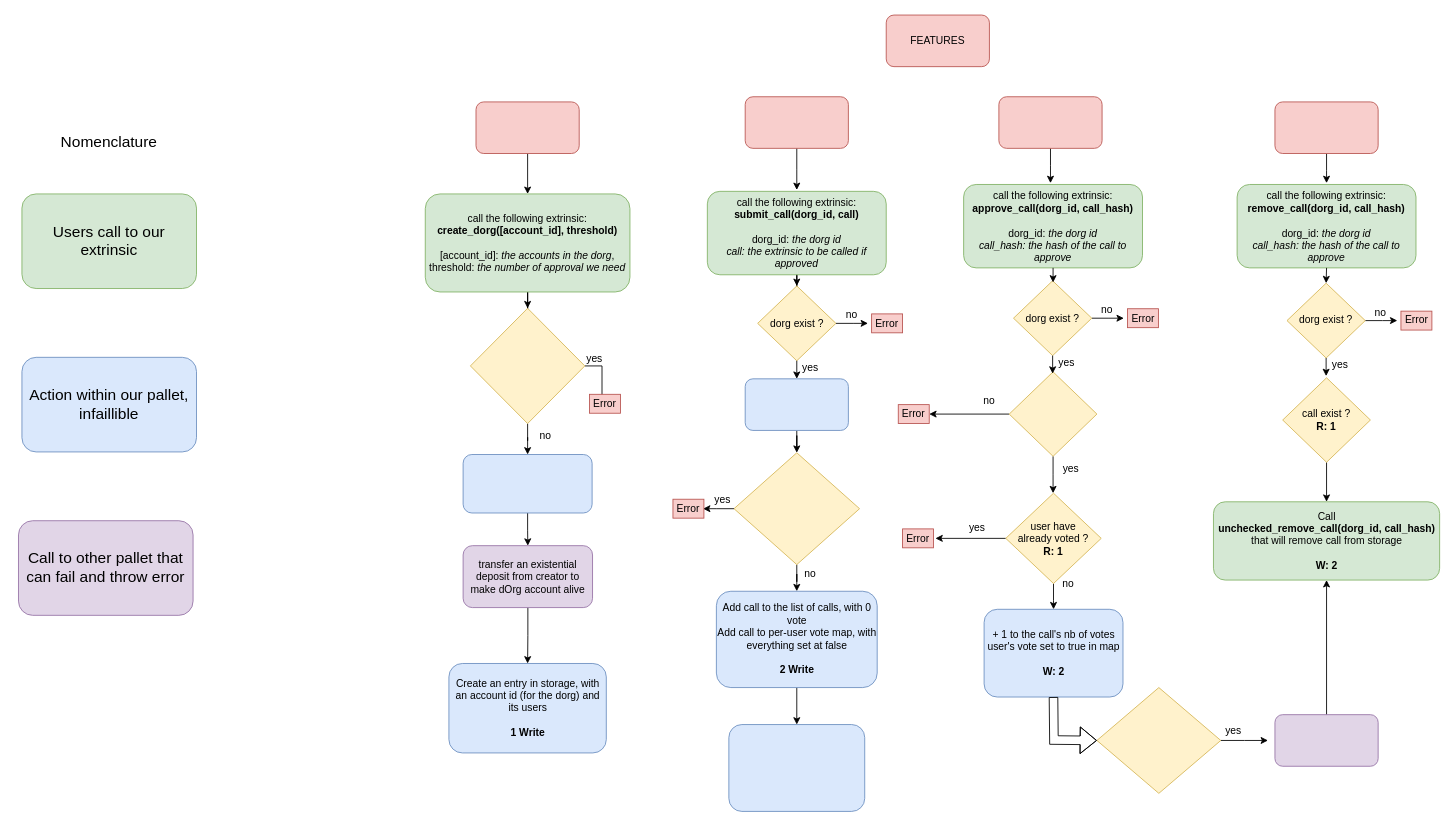
Image size: 1454x826. Some labels were removed from this diagram. Each missing label, with the centre of its shape:
"Call already exist in the poll ? 1 Read" belongs at (796,508).
"Create a dOrg" belongs at (527,127).
"empty list ? invalid threshold (0, 1)?" belongs at (527,365).
"execute call" belongs at (1326,740).
"generate an AccountId based on dOrg index 1 Read" belongs at (527,483).
"hash exist ? R: 1" belongs at (1052,413).
"Hash the call" belongs at (796,404).
"Lock fund of the caller, equivalent to the size of the hashed call" belongs at (796,767).
"Remove call" belongs at (1326,127).
"Submit a call" belongs at (796,122).
"Vote for a call" belongs at (1050,122).
"Votes >= threshold ? R: 1" belongs at (1158,740).
